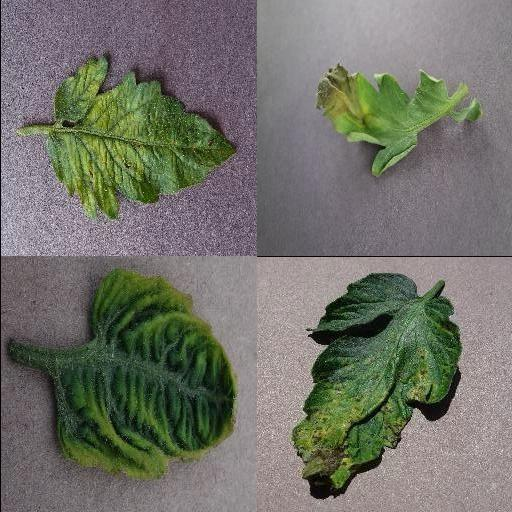Late Blight: (313, 62, 449, 176)
Mosaic Virus: (49, 53, 239, 221)
Septoria: (291, 271, 460, 489)
Yellow Leaf Curl Virus: (44, 266, 238, 479)
